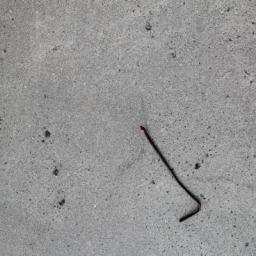FOD: (137, 124, 210, 225)
